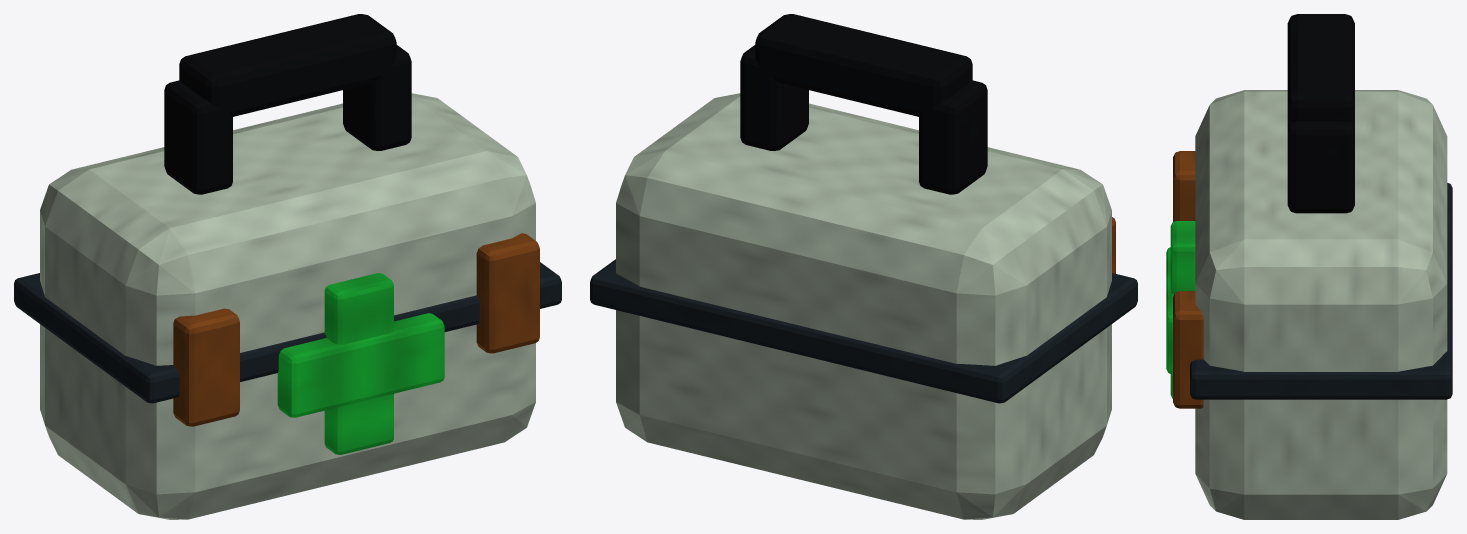
File: medkit_small.glb
3 views of the same model, side by side, from view 1: azimuth 30°, elevation 25°; view 2: azimuth 150°, elevation 25°; view 3: azimuth 270°, elevation 25° (orthographic). The views are drawn at different scales.
Parts seen in each view (by area): view 1: medkit_small; view 2: medkit_small; view 3: medkit_small.
Boxes of the visible parts, bbox=[...] form: medkit_small: bbox=[14, 14, 561, 519]; medkit_small: bbox=[590, 14, 1137, 519]; medkit_small: bbox=[1166, 14, 1452, 519].
Bounding box in the file's own units: 0.328 × 0.3075 × 0.2049.
5 materials, 5 textured.
